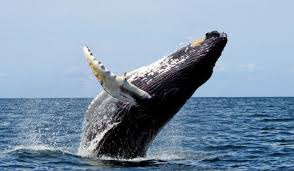humpback: (80, 29, 228, 154)
